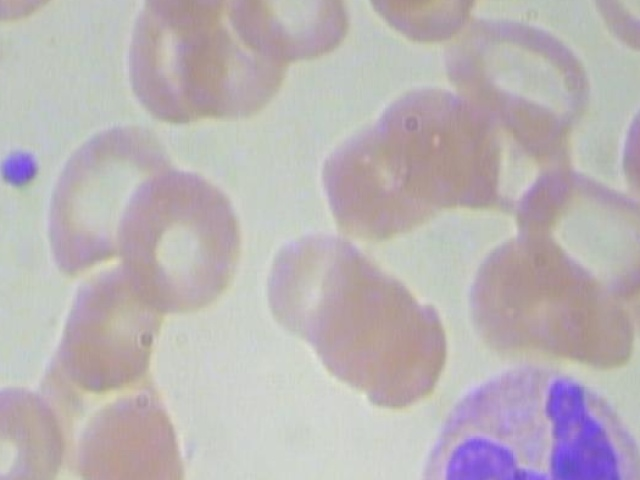Platelets: (0, 139, 46, 197)
RBC: (442, 0, 599, 154), (40, 116, 175, 282), (109, 163, 243, 322), (509, 161, 640, 301), (48, 251, 169, 394), (66, 373, 199, 480), (215, 0, 356, 69), (0, 379, 64, 480), (112, 0, 243, 24), (0, 0, 81, 20)
WBC: (390, 344, 640, 480)
